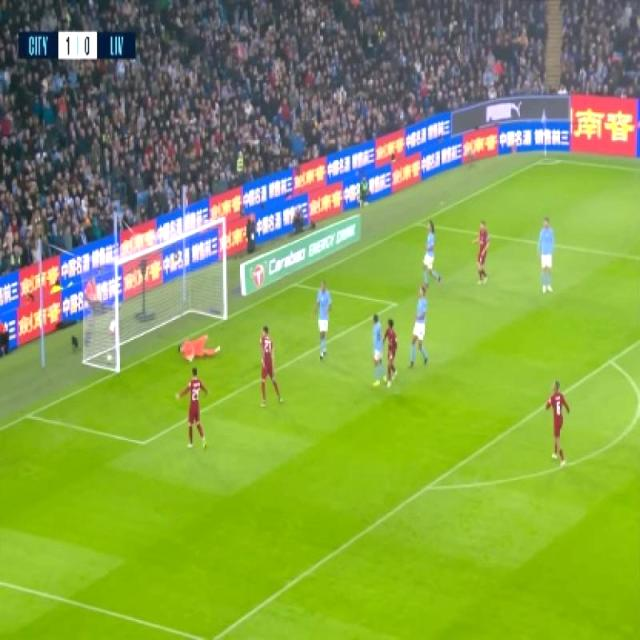bigarea_top_outter: (409, 215, 421, 230)
bottom_arc_area_intersection: (418, 474, 436, 496)
corner: (538, 152, 552, 163)
smallarea_bottom_inner: (132, 429, 151, 457)
smallarea_bottom_outter: (18, 403, 36, 425)
smallarea_top_inner: (388, 298, 400, 312)
smallarea_top_outter: (288, 274, 300, 289)
top_arc_area_intersection: (604, 351, 618, 369)
